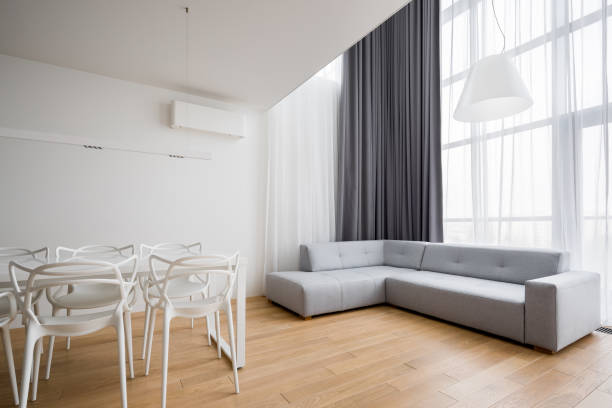dining table set: (0, 242, 249, 408)
sofa: (264, 235, 603, 357)
